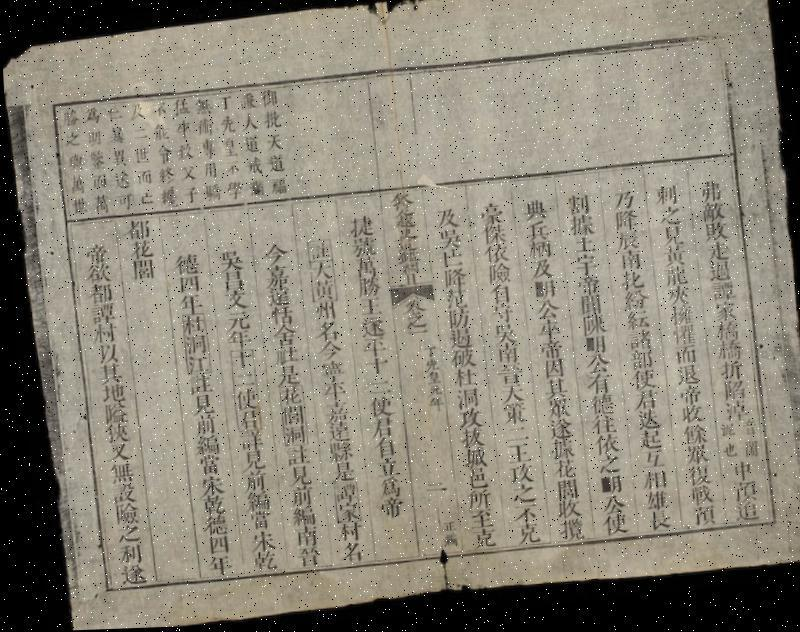c: (264, 334, 298, 368), (497, 441, 529, 468), (550, 520, 582, 546), (212, 248, 244, 274), (258, 266, 290, 292), (168, 252, 200, 278), (314, 378, 346, 404), (256, 242, 288, 268), (112, 562, 143, 588), (474, 204, 505, 230), (120, 218, 152, 243), (496, 404, 526, 430), (649, 186, 679, 212), (518, 200, 548, 226), (464, 528, 494, 554), (694, 182, 724, 208), (726, 502, 756, 528), (508, 524, 538, 550), (548, 480, 578, 506), (583, 396, 614, 421), (101, 461, 132, 486), (82, 282, 114, 306), (490, 366, 522, 390), (84, 302, 116, 326), (500, 464, 532, 488), (594, 516, 626, 540), (620, 333, 652, 357), (609, 212, 638, 238), (588, 436, 618, 461), (125, 258, 155, 283), (354, 317, 384, 342), (564, 217, 594, 242), (481, 266, 512, 290), (724, 484, 755, 508), (710, 344, 741, 368), (242, 530, 273, 554), (503, 486, 534, 510), (705, 284, 736, 308), (635, 471, 666, 495), (344, 216, 375, 240), (622, 353, 654, 376), (618, 314, 650, 337), (562, 195, 591, 220), (371, 498, 400, 523), (181, 374, 211, 398), (656, 248, 686, 272), (106, 502, 136, 526), (362, 397, 392, 421), (232, 429, 262, 453), (218, 290, 248, 314), (665, 328, 695, 352), (97, 402, 127, 426), (698, 224, 728, 248), (630, 432, 660, 456), (234, 450, 264, 474), (318, 402, 348, 426), (110, 542, 140, 566), (280, 466, 310, 490), (676, 427, 706, 451), (679, 468, 709, 492), (238, 490, 268, 514), (196, 514, 226, 538), (629, 412, 659, 436), (278, 446, 308, 470), (321, 441, 351, 465), (537, 380, 567, 404), (658, 268, 688, 292), (346, 238, 376, 262), (716, 404, 747, 427), (220, 311, 251, 334), (430, 208, 458, 233), (450, 389, 478, 414), (569, 256, 597, 281), (189, 434, 218, 458), (524, 261, 553, 285), (723, 464, 752, 488), (613, 252, 642, 276), (487, 326, 516, 350), (215, 270, 244, 294), (324, 462, 353, 486), (460, 490, 489, 514), (715, 383, 744, 407), (287, 526, 316, 550), (193, 475, 222, 499), (174, 293, 203, 317), (245, 550, 274, 574), (191, 454, 220, 478), (703, 264, 732, 288), (618, 293, 648, 316), (224, 349, 254, 372), (634, 451, 664, 474), (86, 323, 116, 346), (684, 509, 714, 532), (539, 401, 569, 424), (709, 324, 739, 347), (194, 495, 224, 518), (200, 554, 230, 577), (591, 477, 621, 500), (95, 382, 125, 405), (263, 306, 293, 329), (489, 346, 519, 369), (81, 262, 111, 285), (637, 492, 667, 515), (284, 507, 314, 530), (627, 393, 657, 416), (664, 309, 694, 332), (493, 386, 524, 408), (505, 506, 536, 528), (303, 239, 330, 264), (478, 226, 506, 250), (478, 247, 510, 268), (444, 330, 472, 354), (576, 317, 604, 341), (462, 510, 490, 534), (90, 342, 118, 366), (366, 438, 394, 462), (546, 460, 574, 484), (530, 301, 558, 325), (266, 324, 294, 348), (274, 404, 302, 428), (332, 542, 360, 566), (670, 368, 698, 392), (282, 486, 310, 510), (364, 418, 392, 442), (186, 394, 214, 418), (531, 322, 560, 345), (351, 278, 380, 301), (98, 422, 127, 445), (105, 482, 134, 505), (270, 366, 299, 389), (640, 512, 669, 535), (289, 547, 318, 570), (175, 314, 204, 337), (682, 488, 711, 511), (581, 376, 610, 399), (520, 223, 549, 246), (320, 422, 349, 445), (433, 230, 462, 253), (542, 442, 572, 464), (707, 306, 737, 328), (541, 422, 571, 444), (522, 242, 552, 264), (590, 458, 620, 480), (330, 522, 360, 544), (356, 338, 386, 360), (660, 290, 690, 312), (626, 373, 656, 395), (585, 418, 615, 440), (438, 268, 465, 292), (311, 322, 338, 346), (442, 310, 469, 334), (571, 278, 599, 301), (350, 258, 378, 281), (615, 273, 643, 296), (574, 297, 602, 320), (459, 469, 487, 492), (678, 447, 706, 470), (656, 229, 684, 252), (326, 483, 354, 506), (92, 363, 120, 386), (188, 414, 216, 437), (654, 209, 682, 232), (456, 449, 484, 472), (454, 429, 482, 452), (714, 364, 742, 387), (533, 342, 562, 364), (439, 290, 468, 312), (447, 370, 476, 392), (388, 211, 417, 233), (100, 442, 129, 464), (199, 535, 228, 557), (701, 244, 730, 266), (124, 239, 153, 261), (241, 510, 270, 532), (444, 351, 474, 372), (260, 289, 290, 310), (359, 359, 389, 380), (230, 388, 255, 413), (485, 286, 511, 310), (608, 192, 634, 216), (537, 360, 563, 384), (80, 242, 107, 265), (580, 356, 607, 379), (178, 334, 205, 357), (220, 330, 251, 350), (308, 302, 336, 324), (436, 250, 464, 272), (528, 282, 556, 304), (550, 501, 578, 523), (370, 458, 398, 480), (276, 426, 304, 448), (674, 408, 702, 430), (386, 192, 414, 214), (329, 504, 357, 526), (668, 350, 696, 372), (272, 386, 300, 408), (236, 472, 264, 494), (353, 298, 381, 320), (312, 342, 340, 364), (594, 498, 622, 520), (697, 206, 725, 228), (452, 410, 480, 432), (578, 338, 607, 359), (611, 235, 640, 256), (360, 379, 390, 399), (108, 524, 138, 544), (232, 410, 258, 433), (308, 282, 334, 305), (371, 478, 398, 500), (181, 354, 208, 376), (172, 275, 200, 296), (672, 389, 700, 410), (487, 306, 513, 328), (306, 262, 332, 284), (498, 428, 526, 448), (568, 239, 596, 259), (398, 301, 426, 320), (257, 89, 280, 112), (64, 173, 86, 197), (315, 362, 344, 380), (156, 188, 178, 211), (259, 112, 282, 134), (388, 230, 419, 246), (399, 317, 428, 334), (192, 118, 214, 140), (58, 106, 80, 128), (264, 155, 286, 177), (88, 194, 110, 216), (235, 92, 257, 114), (169, 99, 192, 120), (154, 166, 176, 187), (67, 196, 88, 218), (85, 150, 106, 172), (216, 116, 237, 138), (266, 178, 288, 199), (153, 144, 173, 167), (241, 135, 261, 158), (419, 480, 444, 498), (125, 102, 146, 123), (263, 134, 284, 155), (63, 152, 84, 173), (173, 143, 194, 164), (172, 120, 192, 142), (108, 147, 128, 169), (110, 169, 130, 191), (222, 182, 244, 202), (392, 252, 419, 268), (201, 184, 222, 204), (130, 147, 151, 167), (83, 128, 103, 149), (150, 123, 170, 144), (736, 443, 756, 464), (103, 105, 124, 125), (246, 180, 266, 201), (192, 98, 213, 118), (238, 113, 258, 134), (243, 157, 263, 178), (219, 138, 238, 160), (132, 169, 154, 188), (229, 372, 253, 389), (391, 242, 420, 256), (88, 172, 108, 192), (112, 192, 132, 212), (61, 130, 81, 150), (106, 126, 126, 146), (176, 165, 196, 185), (197, 140, 216, 161), (82, 106, 101, 126), (199, 162, 218, 182), (394, 264, 421, 278), (396, 274, 422, 288), (129, 125, 148, 144), (180, 186, 198, 206), (716, 446, 736, 463), (136, 191, 154, 209), (150, 102, 168, 120), (736, 424, 754, 442), (216, 96, 234, 113), (222, 162, 240, 179), (418, 360, 437, 376), (416, 346, 435, 362), (714, 427, 732, 443), (437, 536, 455, 552), (434, 520, 452, 536), (423, 398, 440, 414), (420, 374, 438, 388), (422, 386, 439, 399), (403, 332, 426, 340)
